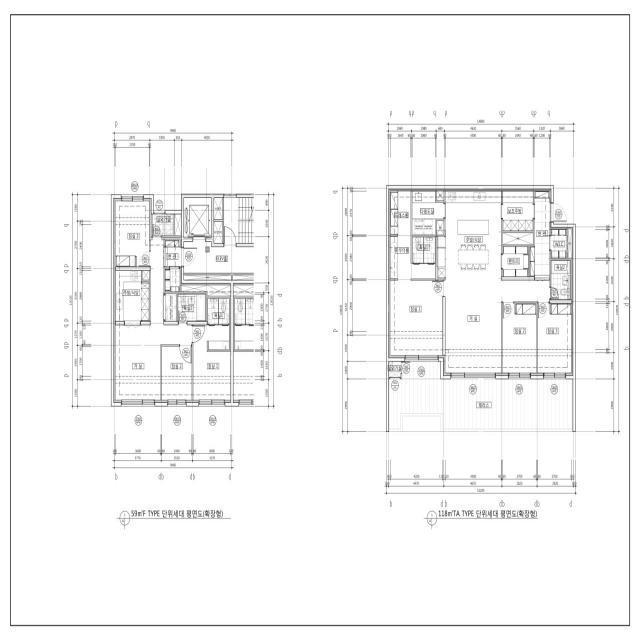space_bedroom: (390, 281, 443, 358), (193, 325, 231, 402), (114, 198, 151, 267), (503, 303, 536, 375), (538, 304, 571, 375), (162, 346, 192, 402)
space_dressroom: (390, 191, 411, 235)
space_elevator: (184, 198, 211, 238)
space_elevator_hall: (184, 242, 254, 273)
space_front: (530, 191, 550, 278), (165, 237, 181, 267)
space_kitchen: (438, 191, 501, 278), (114, 271, 149, 321), (503, 191, 533, 231)
space_living_room: (114, 237, 192, 402), (444, 278, 550, 375)
space_other: (390, 237, 435, 279), (412, 191, 443, 235), (503, 246, 528, 276), (181, 284, 231, 296), (551, 230, 567, 258), (165, 268, 181, 292), (503, 233, 533, 245), (165, 294, 176, 321), (184, 275, 231, 280), (214, 221, 222, 243), (214, 198, 222, 219), (175, 214, 181, 236), (568, 229, 572, 258), (233, 275, 254, 280), (437, 221, 444, 235), (437, 191, 444, 201), (143, 270, 149, 280)
space_outdoor_room: (152, 214, 174, 236), (389, 361, 401, 377)
space_staircase: (224, 198, 254, 243)
space_toilet: (208, 298, 229, 350), (551, 260, 570, 300), (178, 294, 206, 321), (412, 237, 435, 263)
